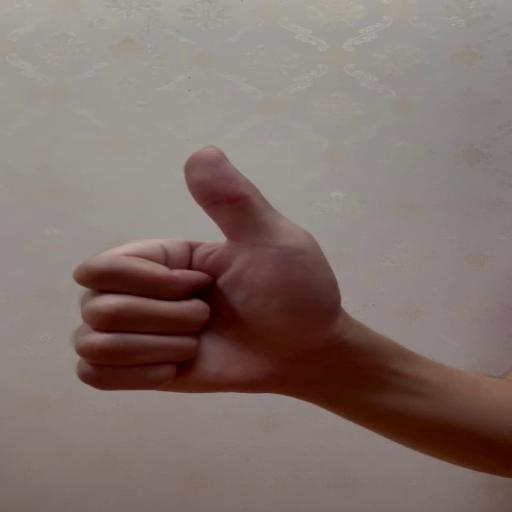thumbs_up: (68, 144, 342, 394)
